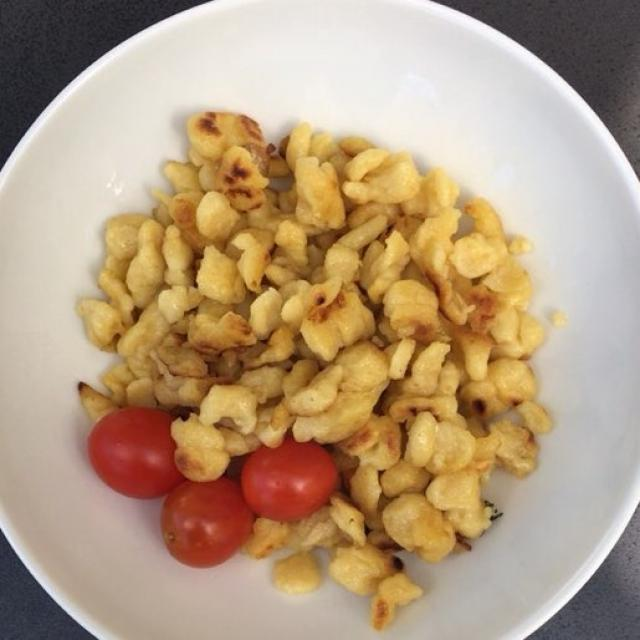spaetzle: (70, 112, 550, 637)
tomato: (75, 403, 346, 572)
